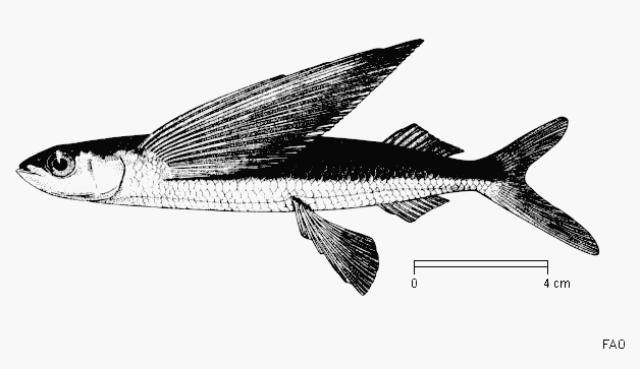Mulut: (4, 142, 61, 216)
Sirip Anal: (374, 189, 462, 229)
Sirip Dada: (128, 33, 428, 190)
Sirip Ekor: (480, 99, 608, 262)
Sirip Perut: (284, 194, 384, 306)
Sirip Punggung: (378, 116, 466, 166)
